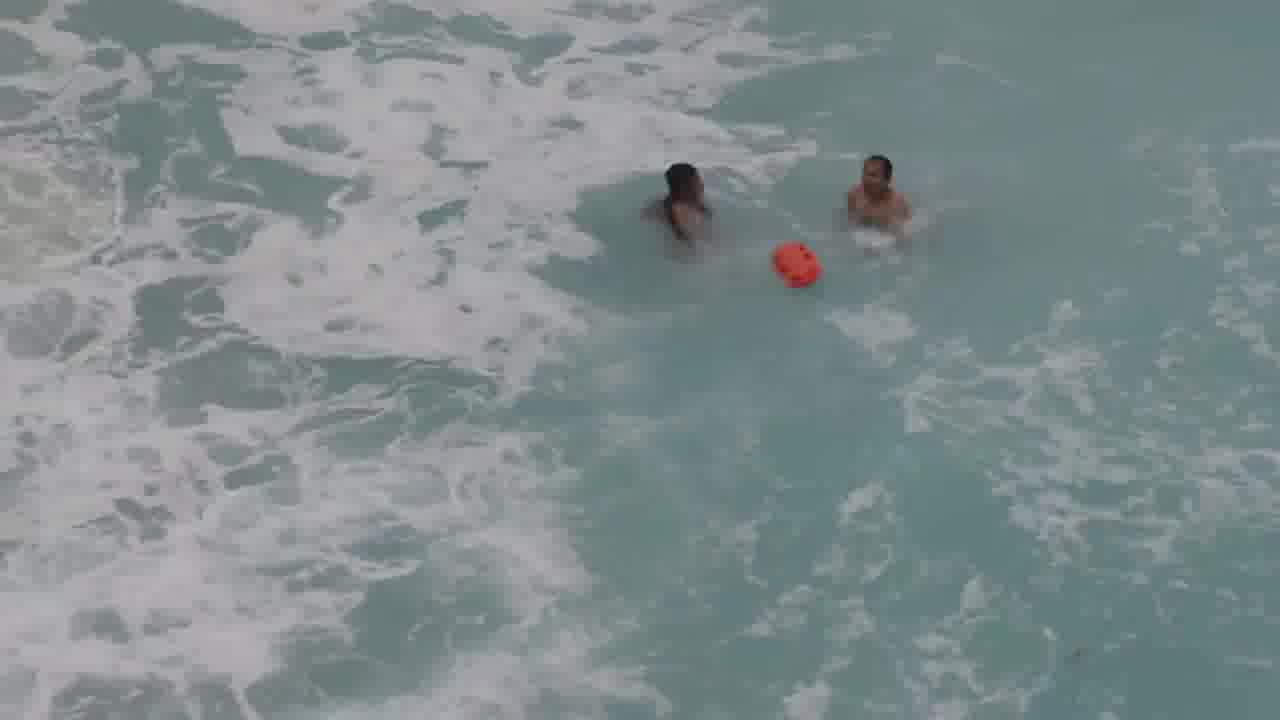swimmer: (621, 163, 727, 255), (839, 148, 921, 239)
